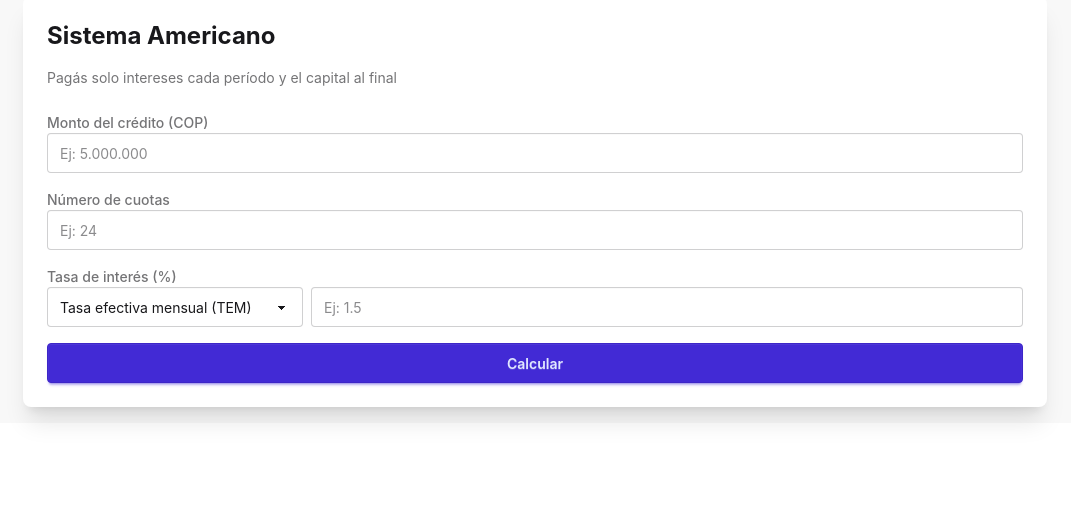
it: AmericanCreditCalculator › validation › shows a Zod error for a zero or negative amount
Type "0" into the field with placeholder "Ej: 5.000.000".
click(535, 153); type("0")  # box 47,133 -> 1023,173
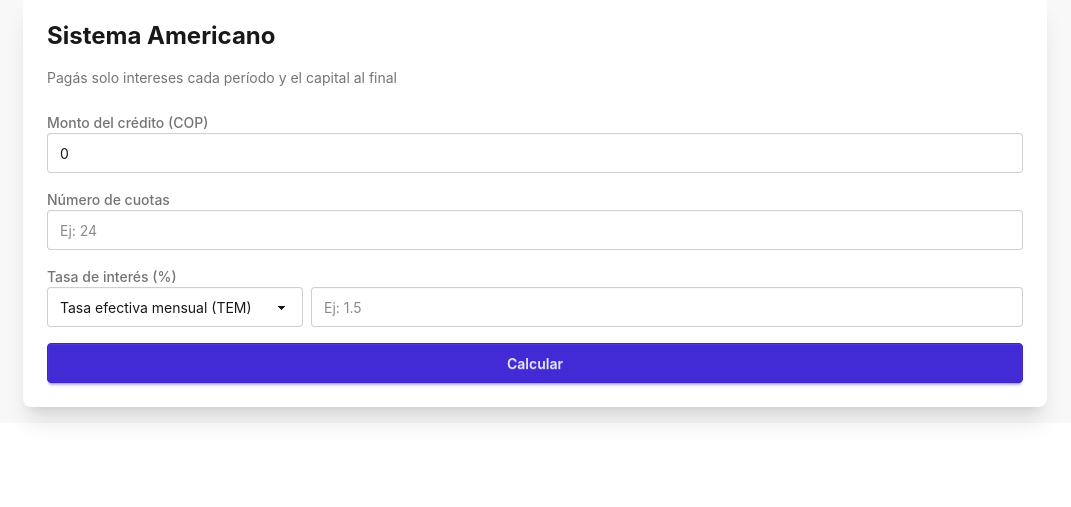
Type "12" into the number field with placeholder "Ej: 24".
click(535, 230); type("12")  # box 47,210 -> 1023,250
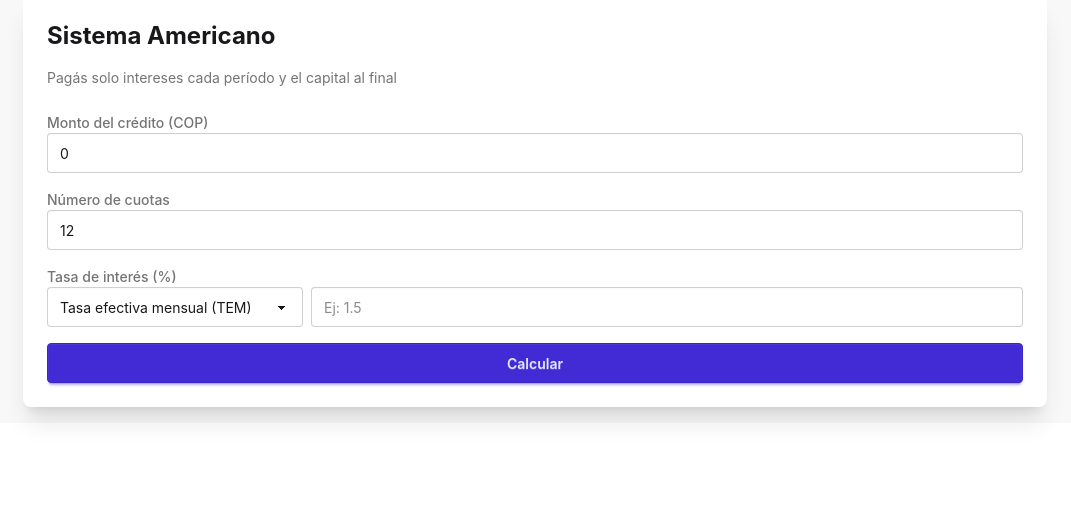
Type "1.5" into the number field with test id "rate-input".
click(667, 307); type("1.5")  # box 311,287 -> 1023,327
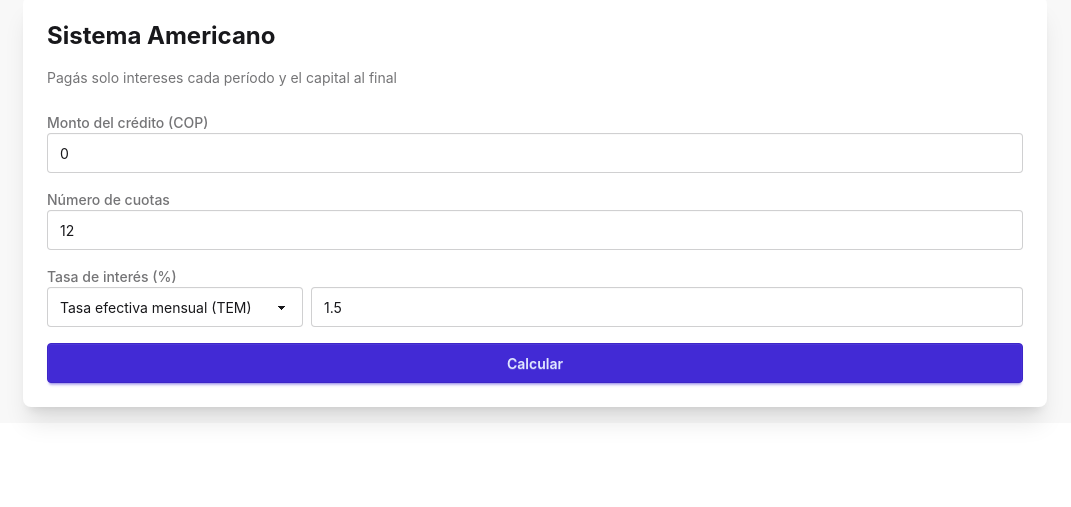
Click the button with test id "calculate-btn".
click(535, 363)  # box 47,343 -> 1023,383
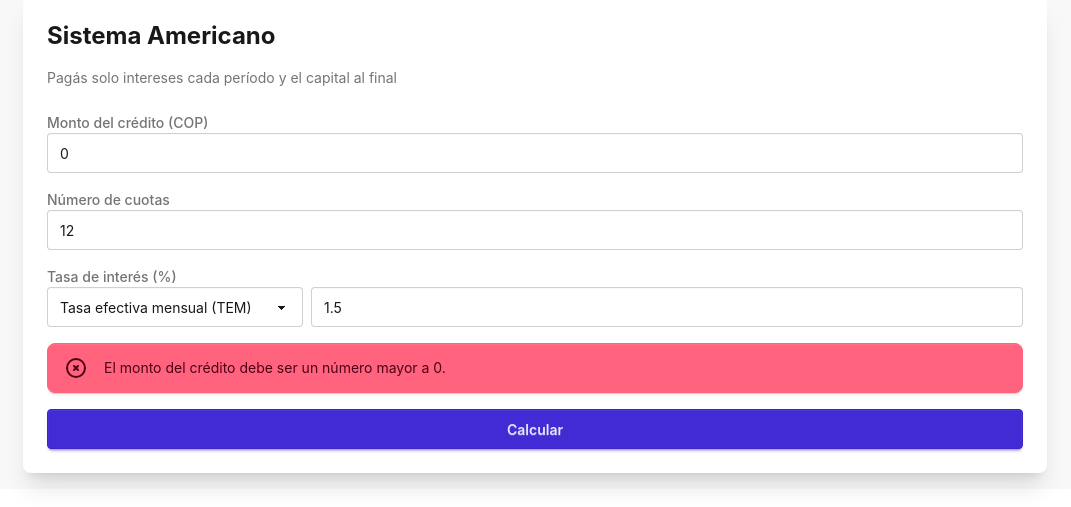
Check: the text "Monto" is shown, box 47,114 -> 208,131
Check: the message "El monto del crédito debe ser un número mayor a 0." is shown, box 47,343 -> 1023,393
